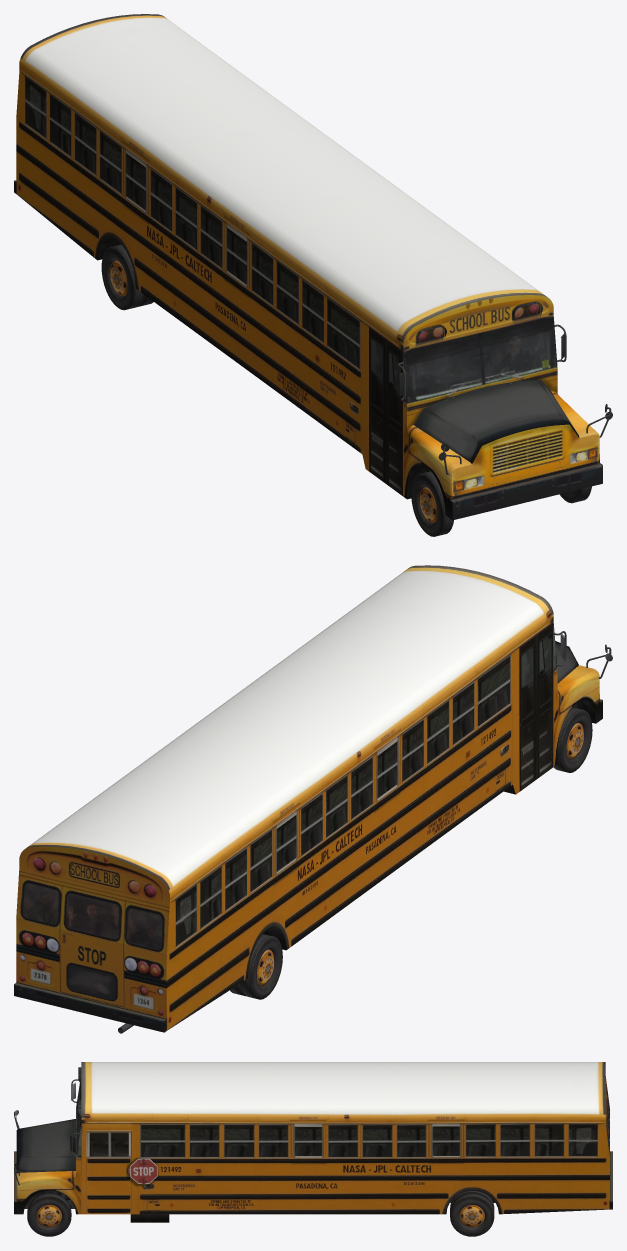
Rendered from school_bus.gltf.
The picture shows the model from 3 angles, top to bottom: view 1: azimuth 30°, elevation 25°; view 2: azimuth 150°, elevation 25°; view 3: azimuth 270°, elevation 25°; orthographic projection. The views are drawn at different scales.
Parts seen in each view (by area): view 1: bus, wheel_rear_R, wheel_front_R, mirror_brackets; view 2: bus, wheel_rear_R, wheel_front_R; view 3: bus, wheel_rear_L, wheel_front_L, stop sign, mirror_brackets.
Part boxes in pixels (left/top/right/bottom): bus: left=14, top=14, right=602, bottom=520; wheel_rear_R: left=101, top=244, right=153, bottom=310; wheel_front_R: left=411, top=471, right=453, bottom=536; mirror_brackets: left=398, top=324, right=612, bottom=474; bus: left=14, top=565, right=602, bottom=1032; wheel_rear_R: left=230, top=934, right=282, bottom=999; wheel_front_R: left=553, top=707, right=592, bottom=772; bus: left=14, top=1062, right=612, bottom=1222; wheel_rear_L: left=450, top=1190, right=494, bottom=1236; wheel_front_L: left=27, top=1193, right=71, bottom=1236; stop sign: left=126, top=1158, right=157, bottom=1183; mirror_brackets: left=14, top=1079, right=82, bottom=1185.
Bounding box in the file's own units: 2.82 × 3.06 × 12.3.
Materials: 4 (4 with a texture image).
